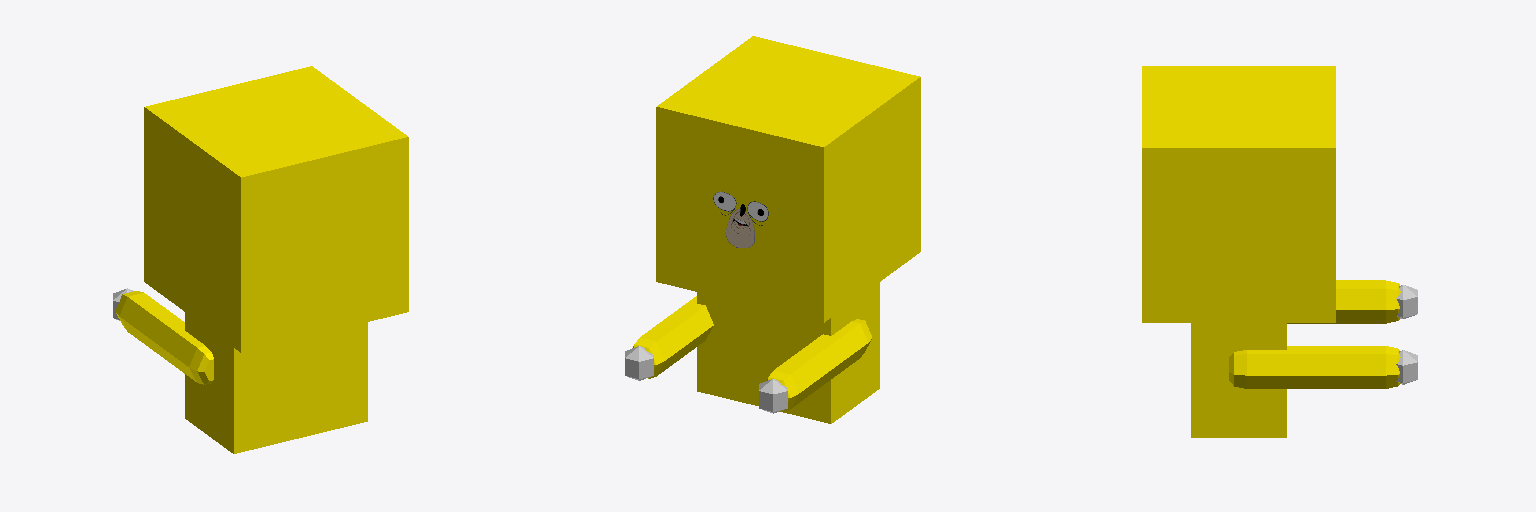
The picture shows the model from 3 angles: view 1: azimuth 30°, elevation 25°; view 2: azimuth 150°, elevation 25°; view 3: azimuth 270°, elevation 25°; orthographic projection.
Visible parts, largest first — view 1: Cube, Cube.1, Cylinder.2; view 2: Cube, Cube.1, Cylinder.2, Cylinder, Sphere, Sphere.1; view 3: Cube, Cube.1, Cylinder, Cylinder.2, Sphere.1, Sphere.
Boxes of the visible parts, <box> form: Cube: <box>144,66,408,352</box>; Cube.1: <box>185,312,367,453</box>; Cylinder.2: <box>115,291,213,384</box>; Cube: <box>656,36,920,322</box>; Cube.1: <box>697,282,879,423</box>; Cylinder.2: <box>767,319,871,411</box>; Cylinder: <box>633,296,713,378</box>; Sphere: <box>759,379,787,413</box>; Sphere.1: <box>625,346,653,380</box>; Cube: <box>1142,66,1335,322</box>; Cube.1: <box>1191,323,1286,437</box>; Cylinder: <box>1229,346,1400,388</box>; Cylinder.2: <box>1287,280,1400,323</box>; Sphere.1: <box>1396,350,1417,384</box>; Sphere: <box>1396,285,1417,318</box>.
Size of the model in its own units: 10 by 17.02 by 14.25.
Materials: 3 (2 with a texture image).